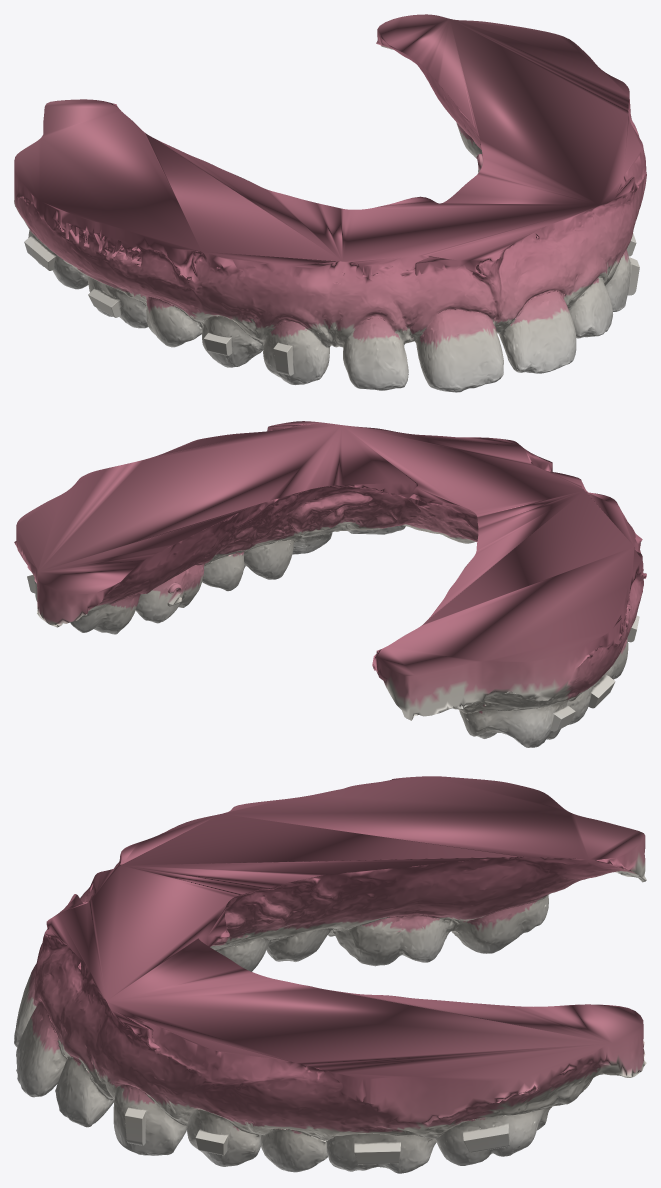
The model's file is Niya Priority Upper jaw - 02 - Model.glb.
3 views of the same model, one above another, from view 1: azimuth 30°, elevation 25°; view 2: azimuth 150°, elevation 25°; view 3: azimuth 270°, elevation 25° (orthographic). The views are drawn at different scales.
Parts seen in each view (by area): view 1: Niya Priority Upper jaw - 02 - Model; view 2: Niya Priority Upper jaw - 02 - Model; view 3: Niya Priority Upper jaw - 02 - Model.
Part boxes in pixels (x1,y1,x2,y2): Niya Priority Upper jaw - 02 - Model: (14,14,646,392); Niya Priority Upper jaw - 02 - Model: (14,421,646,747); Niya Priority Upper jaw - 02 - Model: (14,776,646,1173).
Size of the model in its own units: 66.36 by 13.69 by 58.26.
